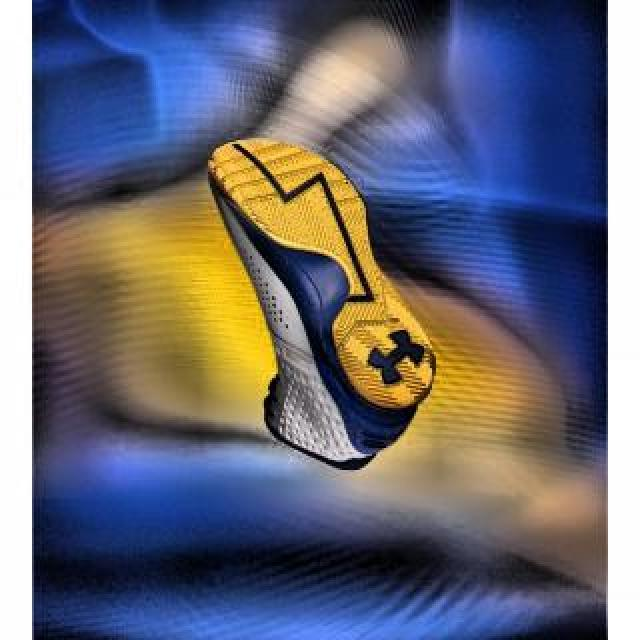shoe: (206, 138, 436, 472)
